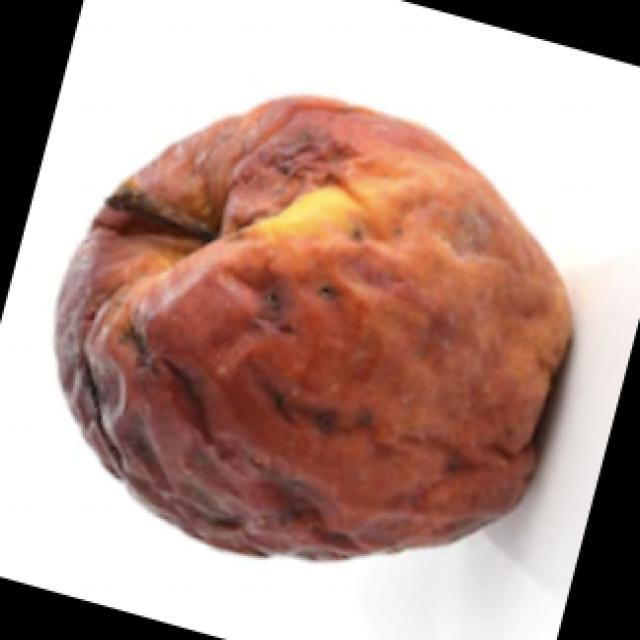Rotten: (56, 92, 562, 575)
